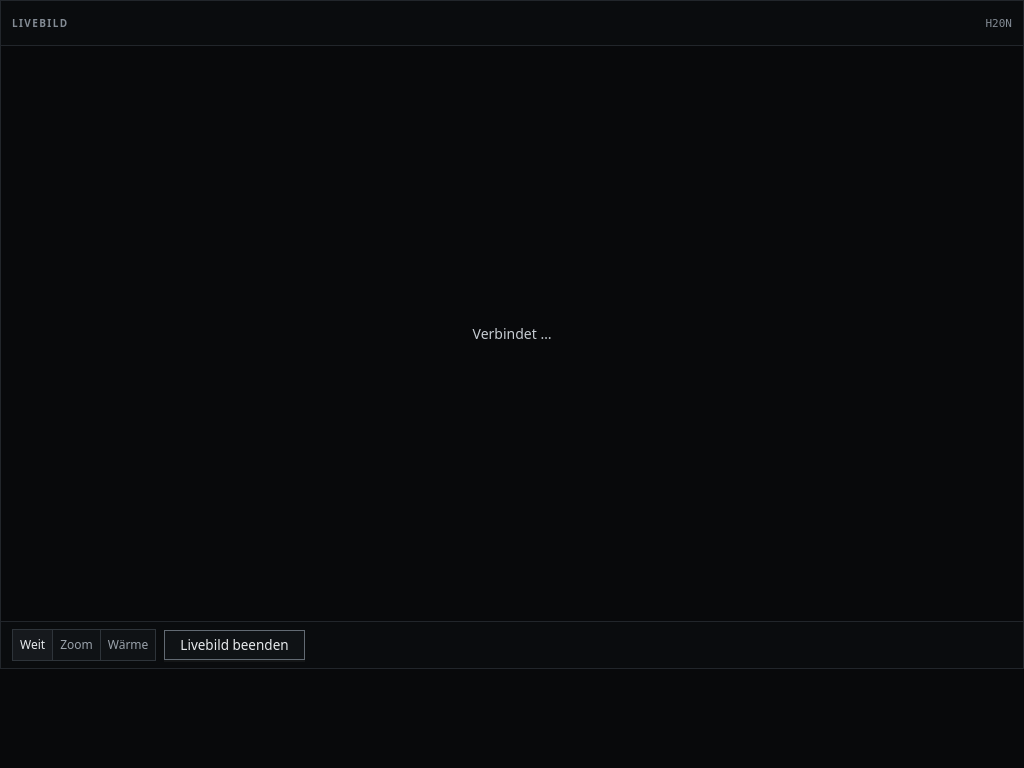
ein abgelehnter Befehl nennt den Grund vom Server
This screenshot has width=1024, height=768.
Click the button "Livebild beenden": [234, 645] box [164,630,305,660]
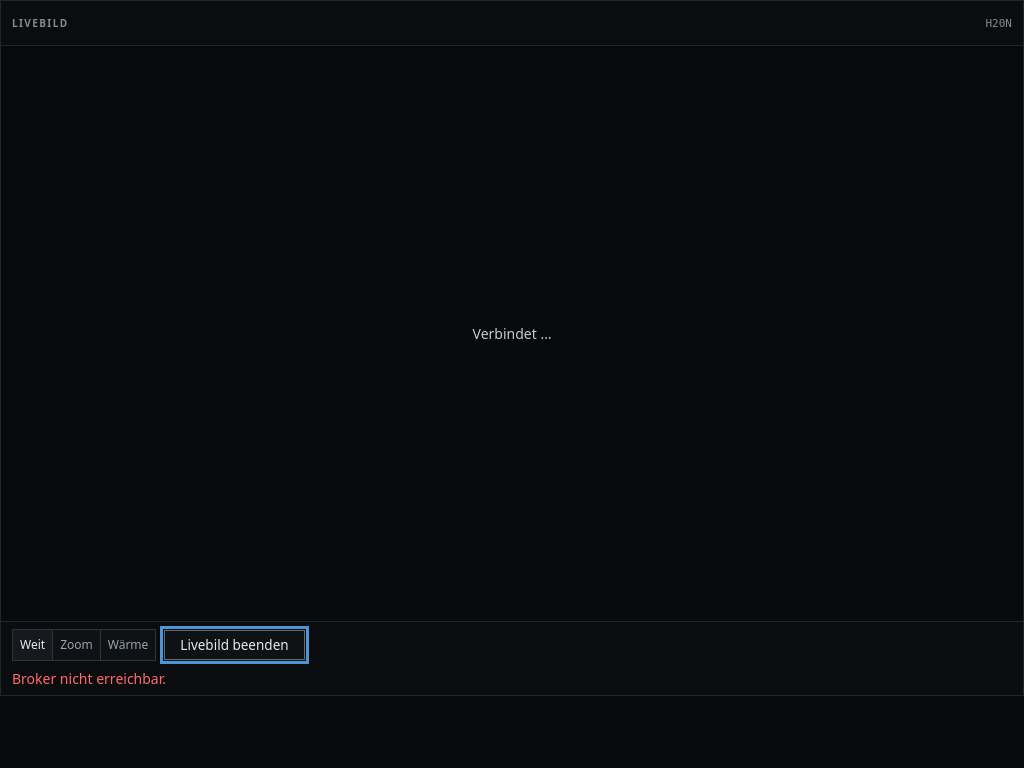
Check: the message "Broker nicht erreichbar." is shown, box [12,669,166,688]
